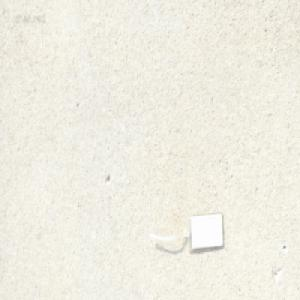LuggageTag: (146, 208, 223, 251)
